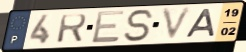4: (28, 13, 52, 46)
A: (184, 8, 217, 39)
E: (90, 9, 127, 45)
R: (55, 12, 89, 44)
S: (123, 8, 157, 44)
V: (160, 5, 195, 43)
